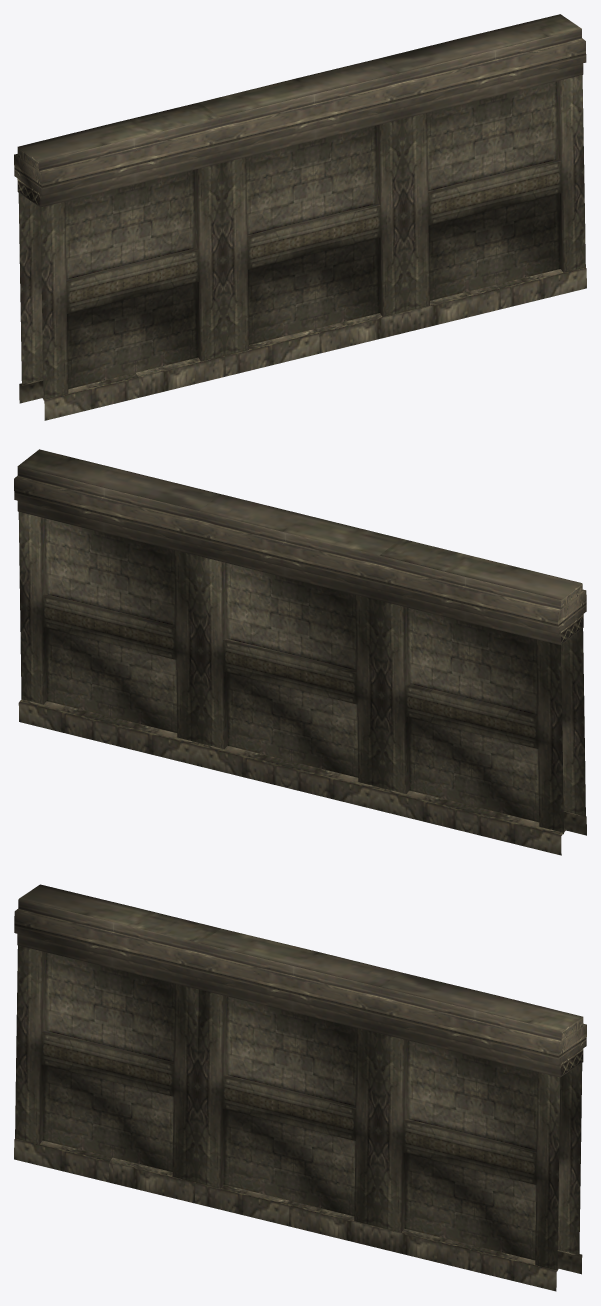
The model's file is S_Build_Forest051.FBX.
3 renders of one model, top to bottom at view 1: azimuth 30°, elevation 25°; view 2: azimuth 150°, elevation 25°; view 3: azimuth 330°, elevation 25°, orthographic.
Parts seen in each view (by area): view 1: S_Build_Forest051; view 2: S_Build_Forest051; view 3: S_Build_Forest051.
Boxes of the visible parts, left/top/right/bottom form: S_Build_Forest051: left=14, top=14, right=586, bottom=420; S_Build_Forest051: left=14, top=449, right=586, bottom=855; S_Build_Forest051: left=14, top=884, right=586, bottom=1291.
Bounding box in the file's own units: 1487 × 146 × 675.
